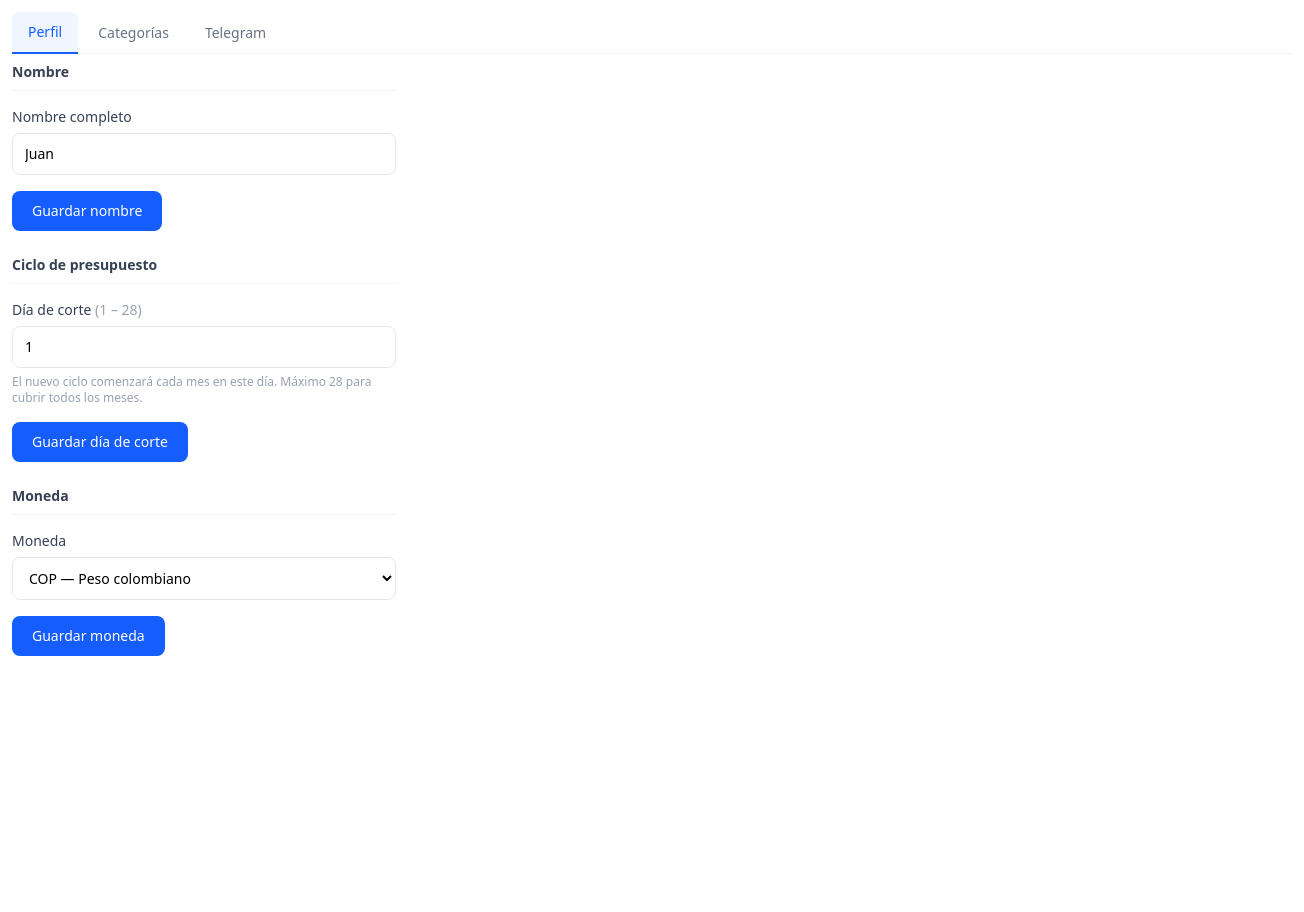
Test: ConfiguracionClient — render › muestra las categorías al cambiar a la tab de Categorías
This screenshot has width=1304, height=912.
Click the button "Categorías" at (134, 32), box left=82, top=12, right=185, bottom=53
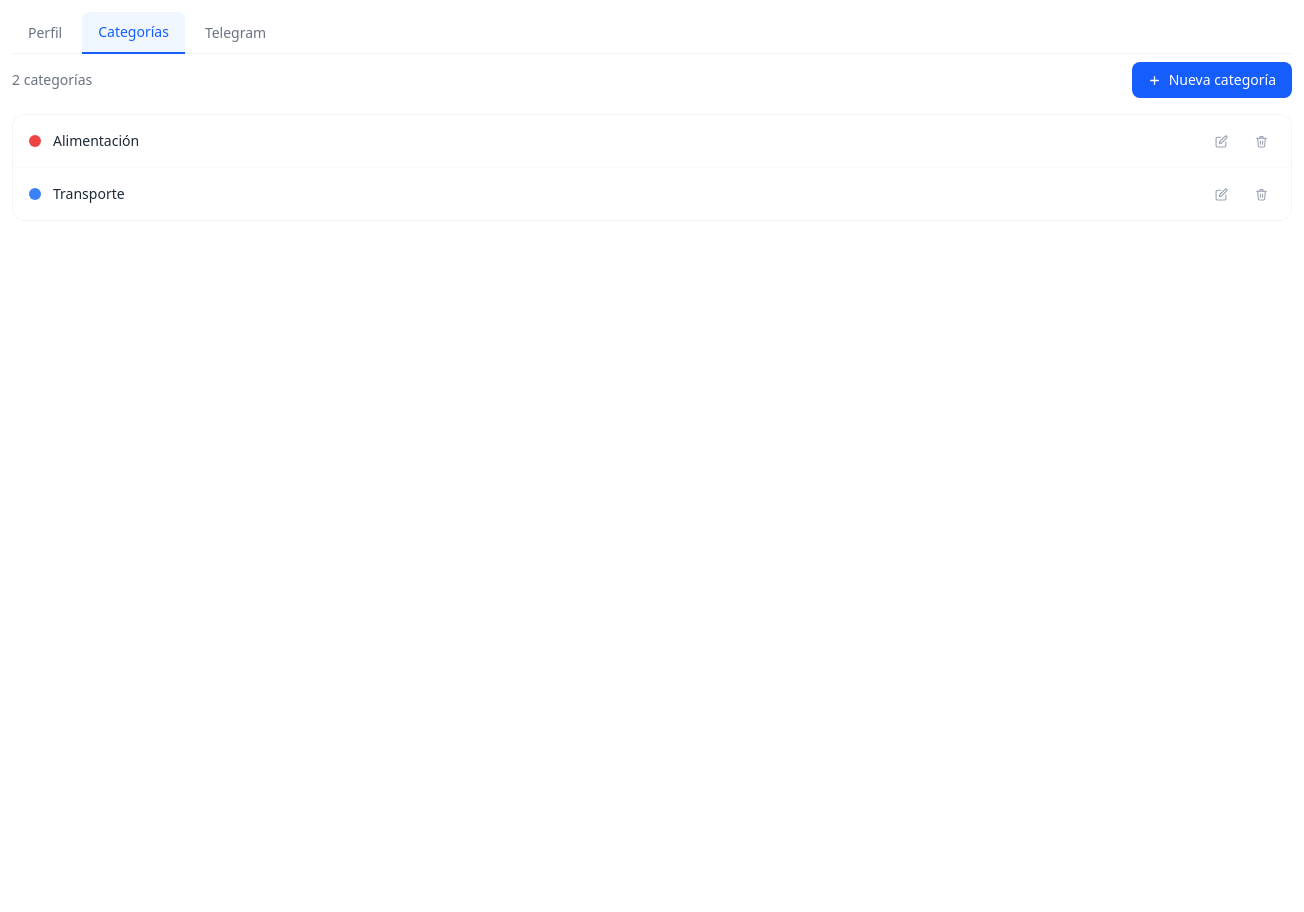
Now the text "Alimentación" is shown, box left=53, top=131, right=139, bottom=150
Now the text "Transporte" is shown, box left=53, top=184, right=125, bottom=203
